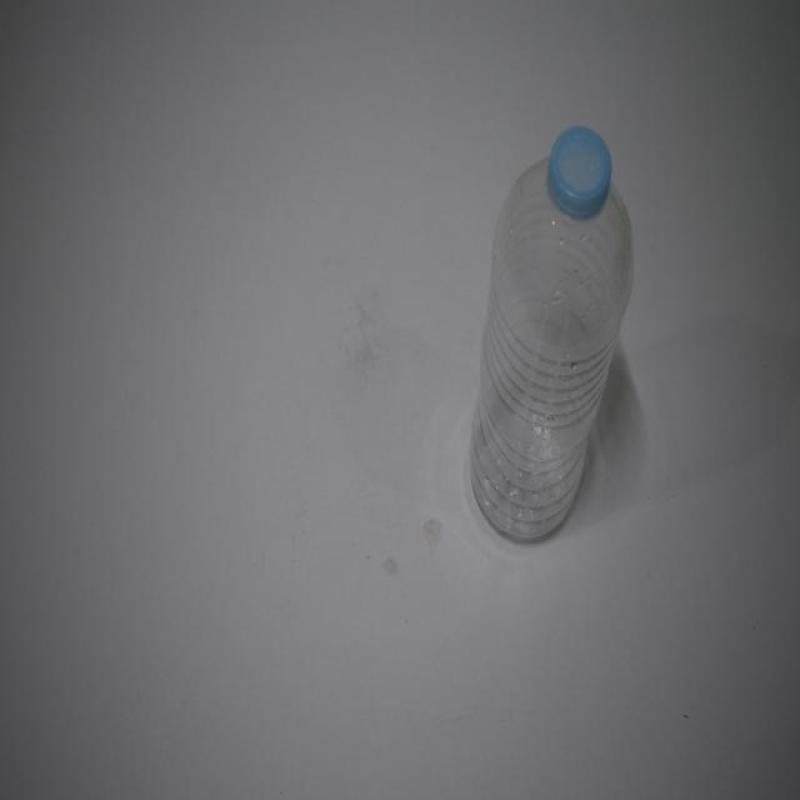botella: (470, 126, 634, 546)
